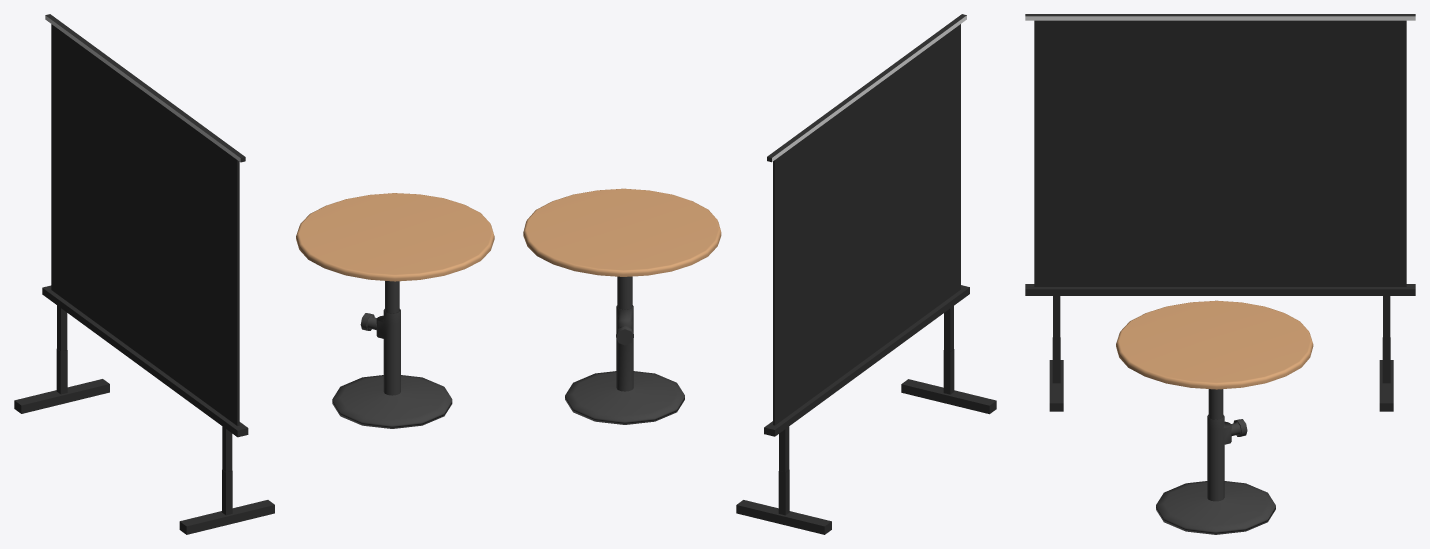
Rendered from PrismStand_Screen.fbx.
3 views of the same model, side by side, from view 1: azimuth 30°, elevation 25°; view 2: azimuth 150°, elevation 25°; view 3: azimuth 270°, elevation 25° (orthographic).
Visible parts, largest first — view 1: Screen, polySurface12a, polySurface11a, Stand; view 2: Screen, polySurface12a, polySurface11a, Stand; view 3: Screen, polySurface12a, polySurface11a, Stand.
Part boxes in pixels (<box>): Screen: <box>42,14,248,472</box>; polySurface12a: <box>296,193,494,313</box>; polySurface11a: <box>332,309,452,428</box>; Stand: <box>14,349,274,534</box>; Screen: <box>764,14,969,472</box>; polySurface12a: <box>523,188,721,309</box>; polySurface11a: <box>565,305,684,424</box>; Stand: <box>736,349,996,534</box>; Screen: <box>1025,14,1415,340</box>; polySurface12a: <box>1116,300,1313,419</box>; polySurface11a: <box>1156,414,1275,534</box>; Stand: <box>1049,337,1393,411</box>.
Size of the model in its own units: 187 by 177 by 167.
